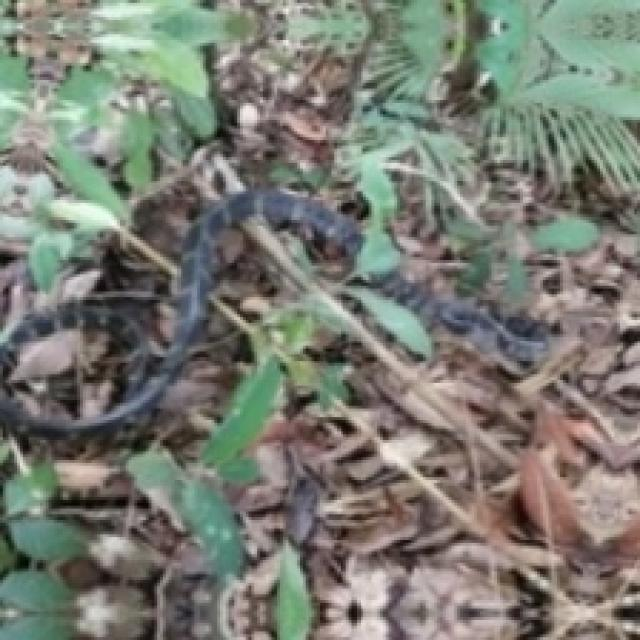dog-toothed cat snake: (0, 189, 357, 434), (378, 270, 549, 367)
